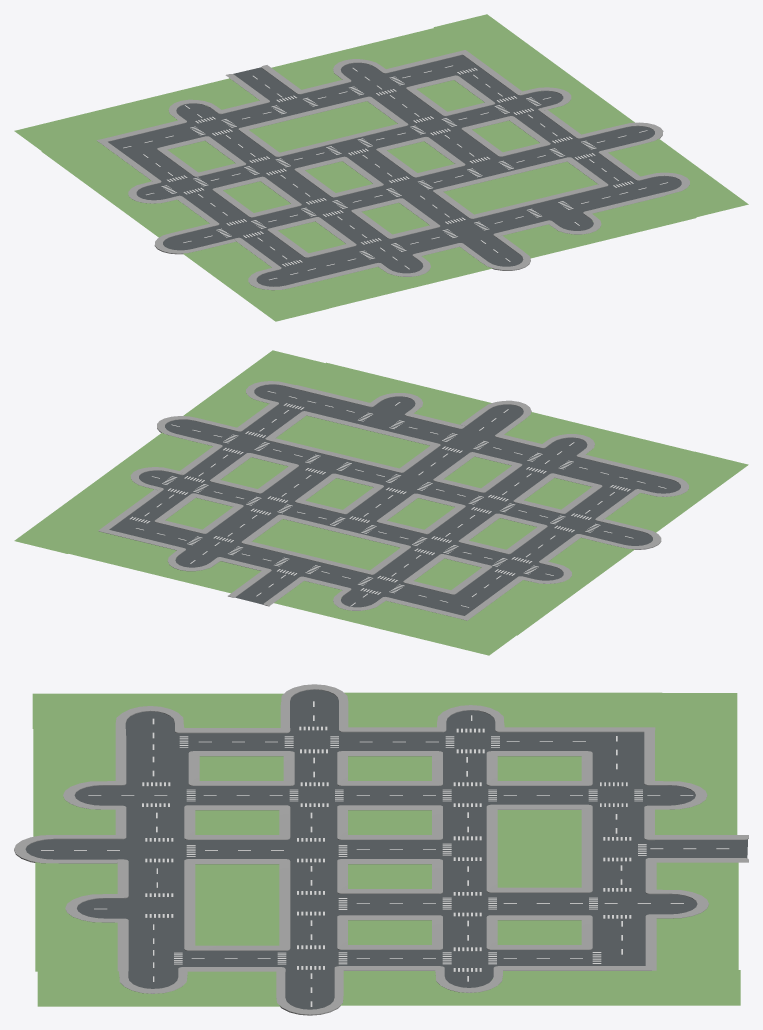
3 views of the same model, one above another, from view 1: azimuth 30°, elevation 25°; view 2: azimuth 150°, elevation 25°; view 3: azimuth 270°, elevation 25° (orthographic). The views are drawn at different scales.
Visible parts, largest first — view 1: patch; view 2: patch; view 3: patch.
Boxes of the visible parts, box(x1,y1,x2,y2) form: patch: box(14, 14, 748, 321); patch: box(14, 350, 748, 655); patch: box(14, 684, 748, 1015).
Bounding box in the file's own units: 194 × 0.4194 × 183.
